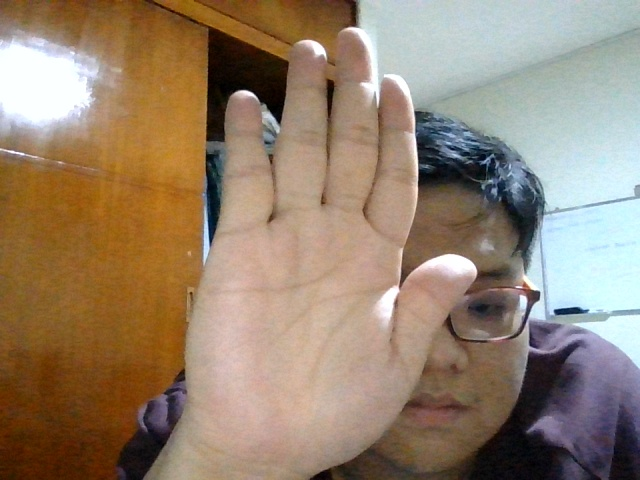hola: (176, 23, 477, 464)
